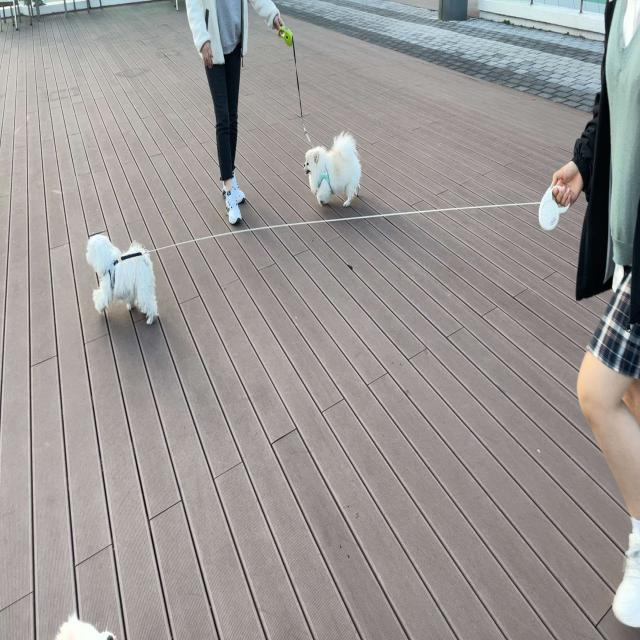Leashed_Dog: (85, 102, 626, 326), (230, 0, 363, 206)
